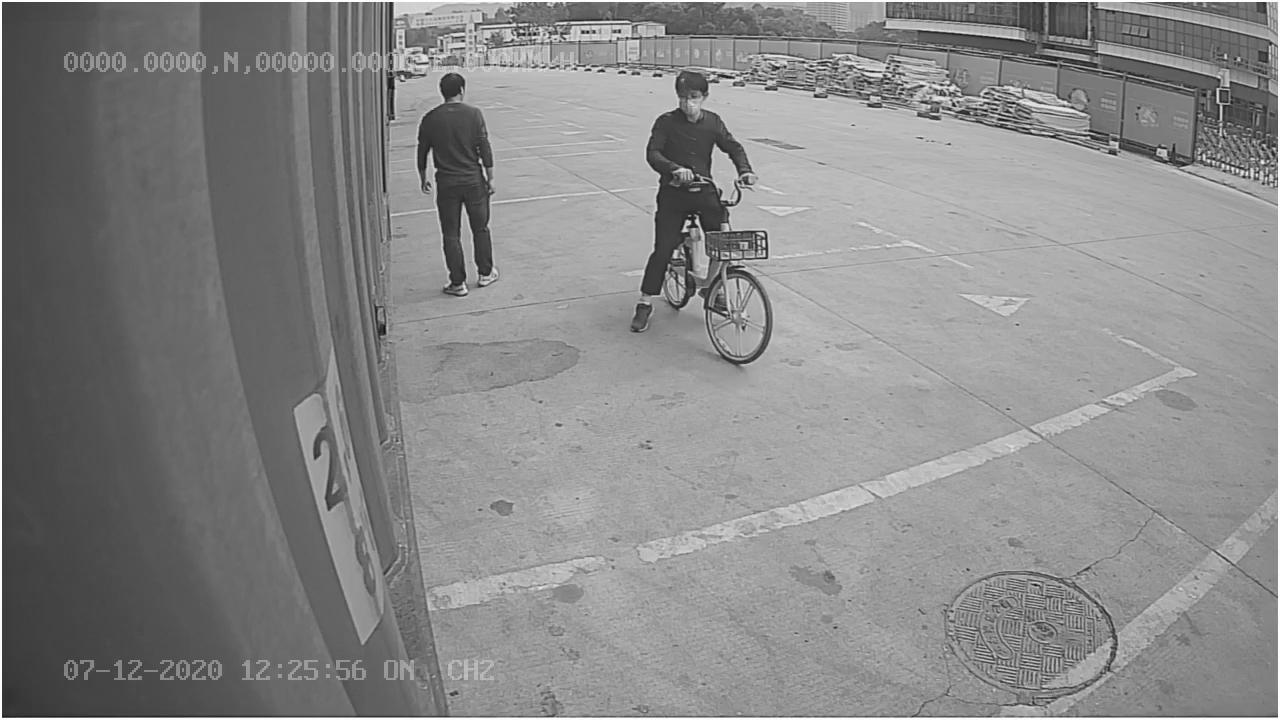person: (411, 69, 505, 301)
